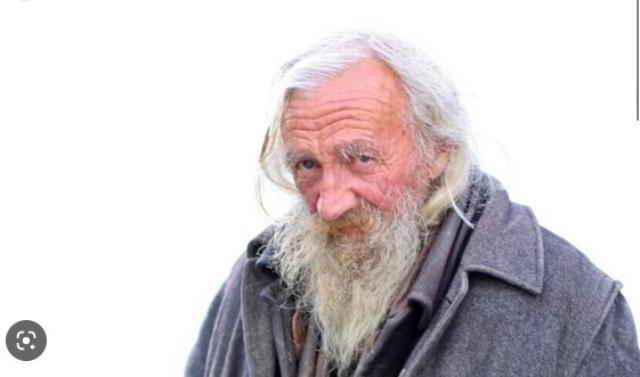forehead: (318, 106, 344, 138), (285, 113, 311, 142), (346, 104, 368, 132)
